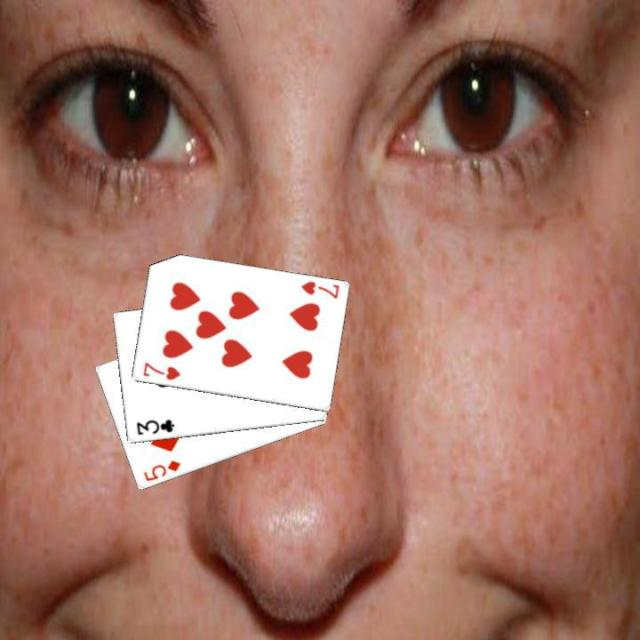3C: (132, 415, 176, 437)
5D: (140, 457, 182, 483)
7H: (139, 358, 182, 382), (297, 278, 340, 300)
